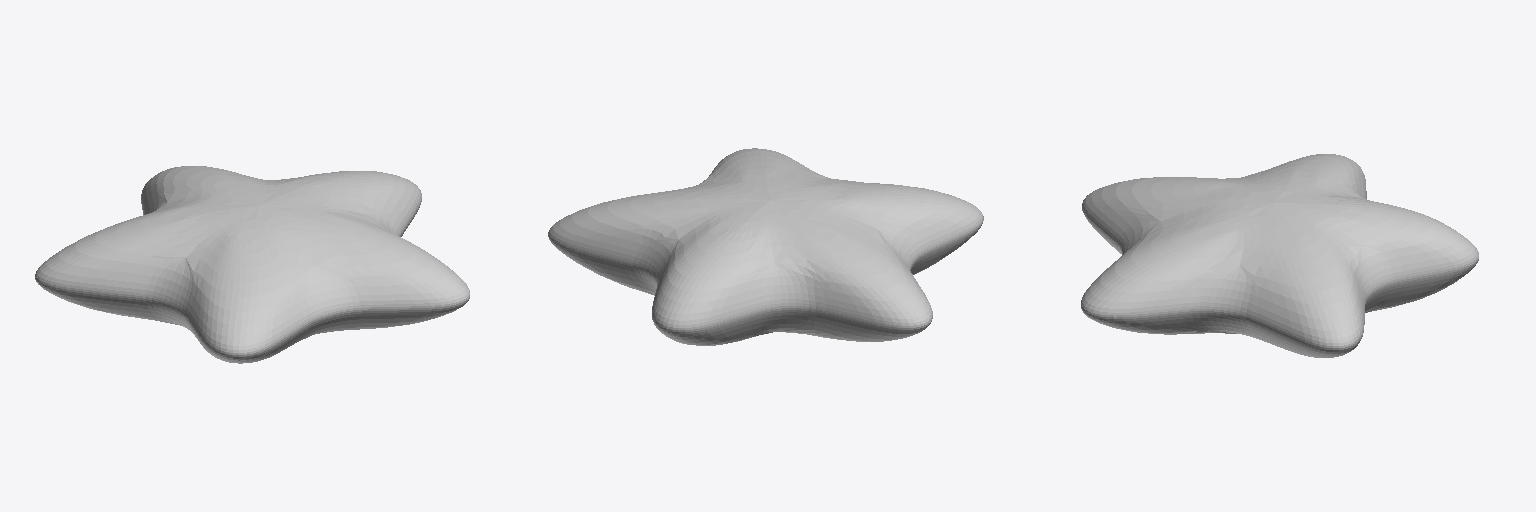
Rendered from Hviezda.obj.
The picture shows the model from 3 angles: view 1: azimuth 30°, elevation 25°; view 2: azimuth 150°, elevation 25°; view 3: azimuth 270°, elevation 25°; orthographic projection.
Parts seen in each view (by area): view 1: estrellica; view 2: estrellica; view 3: estrellica.
Part boxes in pixels (x1,y1,x2,y2): estrellica: (35, 166, 469, 363); estrellica: (548, 148, 983, 345); estrellica: (1081, 154, 1478, 357).
Size of the model in its own units: 3.12 by 0.8383 by 2.84.